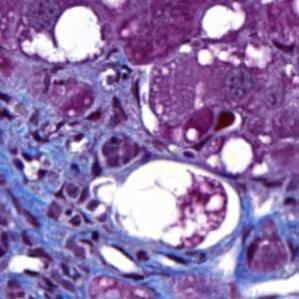ballooning: (113, 156, 244, 255)
